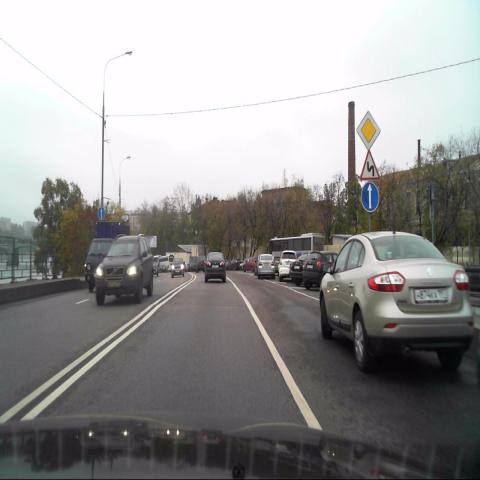1_12_2: (360, 151, 380, 180)
